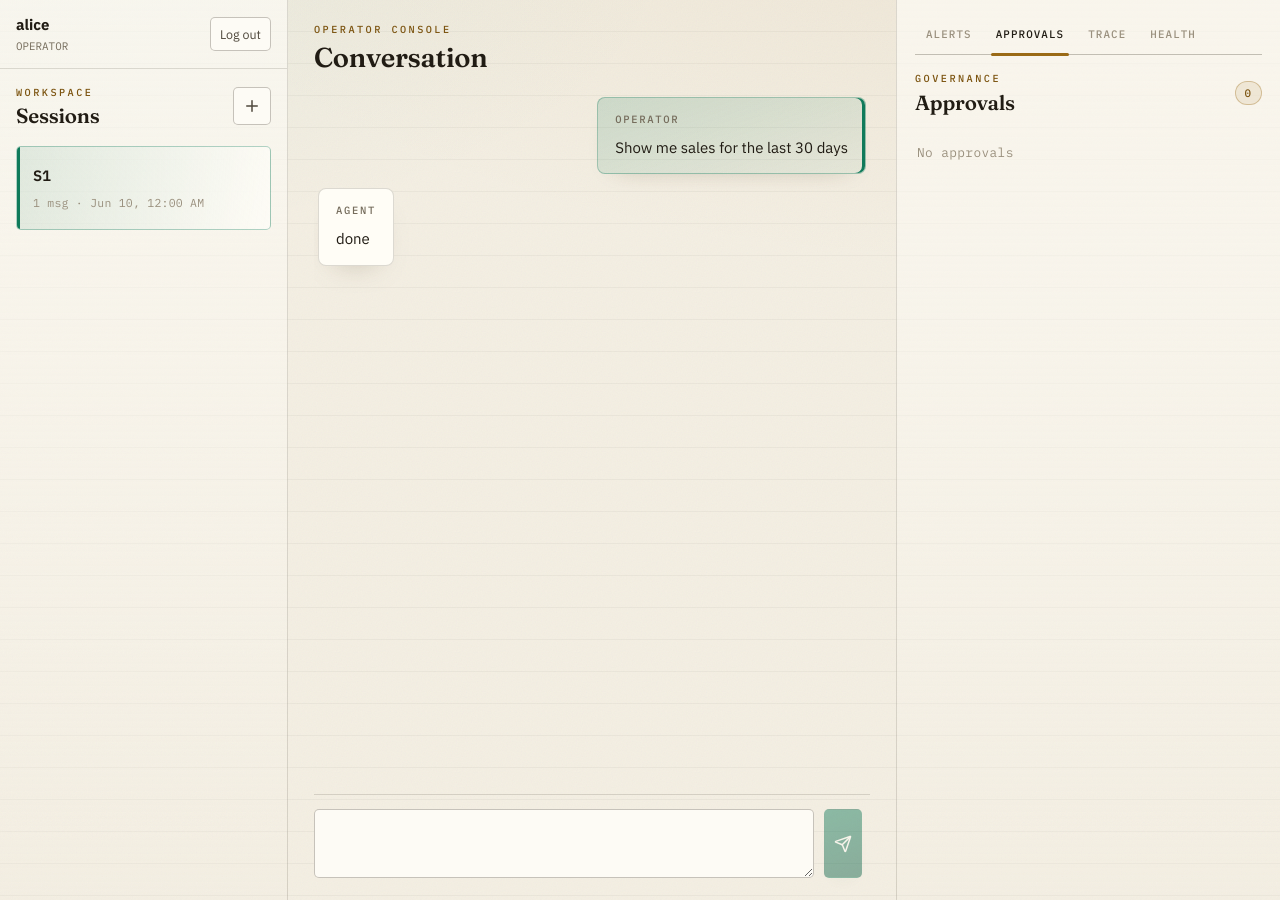
Scenario: App › Trace tab defaults to the latest completed agent turn
Click the tab "Trace": (1107, 35) [1077,18,1137,52]
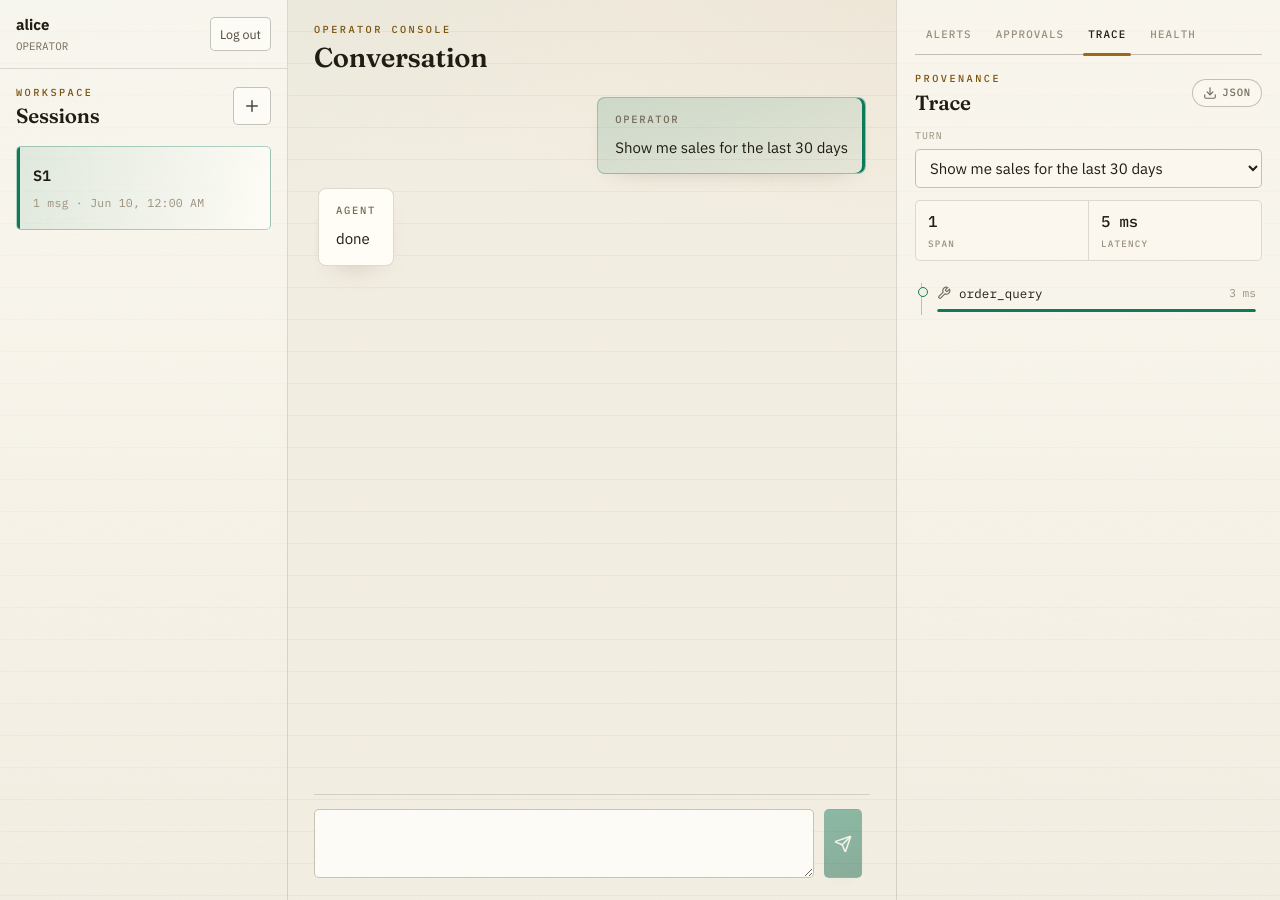
Result: the text "order_query" is shown at [959,285,1043,301]
